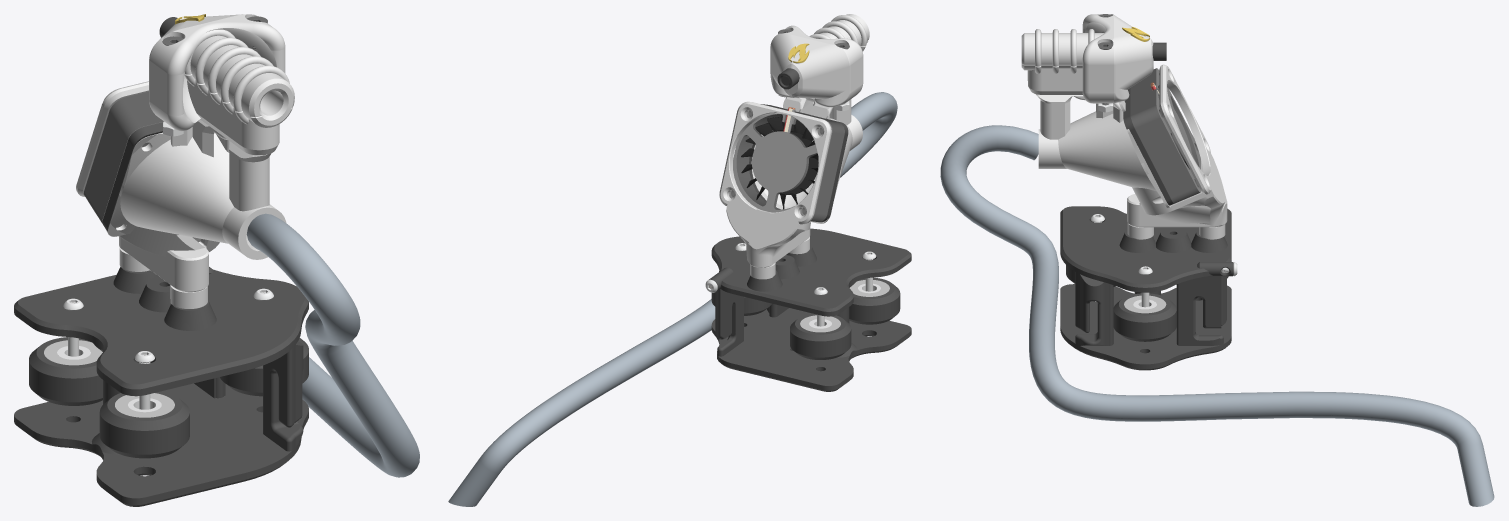
Rendered from Carriage.glb.
The picture shows the model from 3 angles, left to right: view 1: azimuth 30°, elevation 25°; view 2: azimuth 150°, elevation 25°; view 3: azimuth 270°, elevation 25°; orthographic projection. The views are drawn at different scales.
Visible parts, largest first — view 1: Carriage (×6), HEAD (×2), Component224, RW_T (2), Fan case, LW, RW_T; view 2: Carriage (×4), Component224, HEAD (×2), Fan case, Fan body, RW_T (2); view 3: Carriage (×3), Component224, HEAD (×2), Fan case, LW.
Part boxes in pixels (x1,y1,x2,y2): Carriage (×6): (14,81,308,506); HEAD (×2): (149,14,294,155); Component224: (246,213,419,477); RW_T (2): (99,391,189,458); Fan case: (84,92,163,223); LW: (220,338,308,396); RW_T: (115,393,174,417); Carriage (×4): (709,97,911,391); Component224: (448,92,897,506); HEAD (×2): (770,14,869,107); Fan case: (729,104,844,221); Fan body: (741,115,818,209); RW_T (2): (849,277,900,324); Carriage (×3): (1035,64,1233,370); Component224: (940,125,1494,506); HEAD (×2): (1021,14,1153,103); Fan case: (1130,68,1200,203); LW: (1113,293,1176,341).
Bounding box in the file's own units: 0.1185 × 0.1629 × 0.21.
